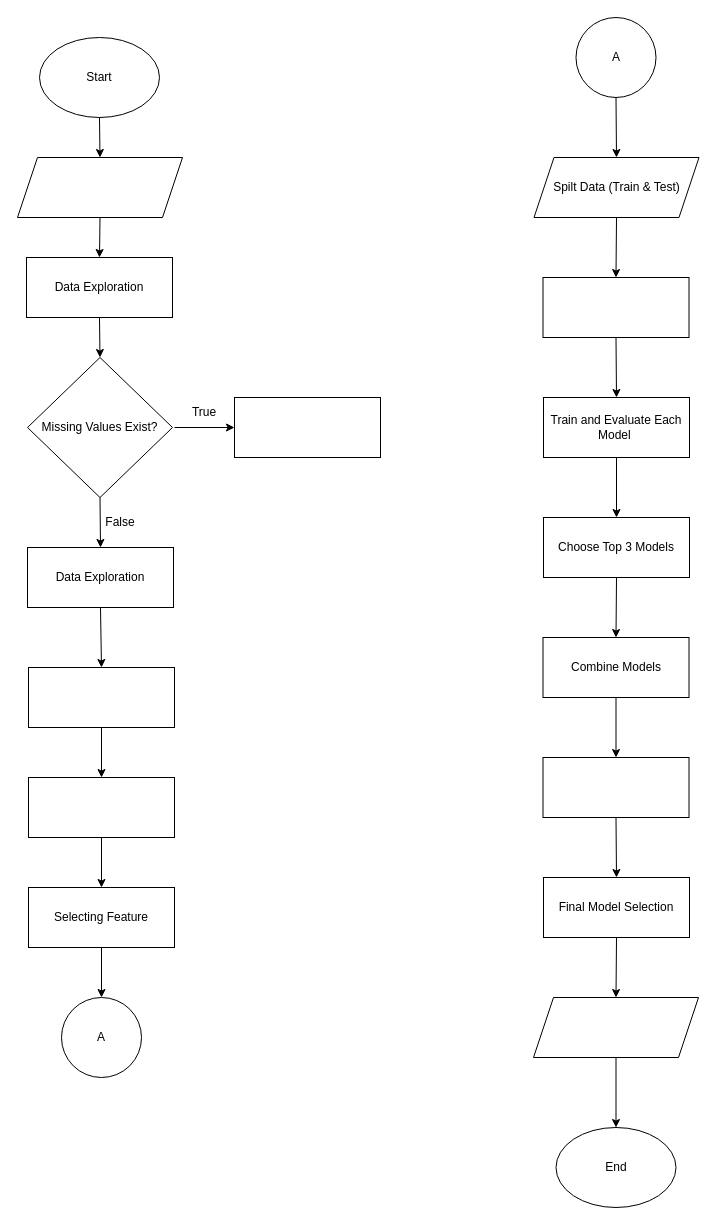
The diagram is 717 pixels wide and 1225 high, and some of its shapes have lost their labels. The shapes that lost their labels are listed below. From the top down, each one's centre as x and y in pixels, then its label:
point 99,187: Import Loan Dataset
point 615,307: Initialize Models
point 307,427: Replace Missing Values
point 101,697: Encode Categorical Features
point 101,807: Normalize Numerical Features
point 615,787: Compare Single Model vs Ensemble
point 615,1027: Predict Loan Default
